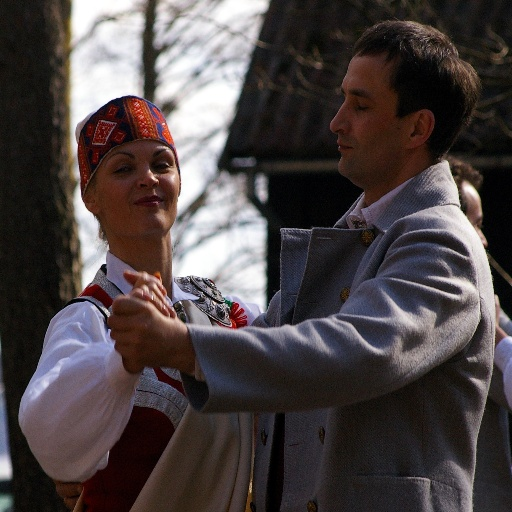hand: (95, 271, 203, 384), (126, 268, 178, 318), (50, 478, 82, 511), (492, 292, 502, 326)
